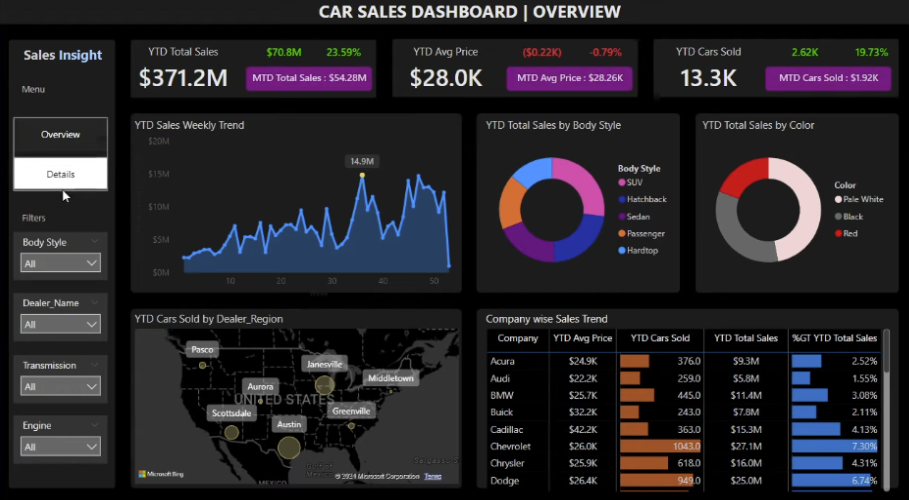

The dashboard page shown, as its layout file describes it:
{"tool":"powerbi","page":{"name":"OVERVIEW","canvas":[1280,720],"ordinal":0},"visuals":[{"type":"cardVisual","title":"YTP TOTAL SALES","fields":{"Data":["car_data.YTD TOTAL SALES"]},"box":[448.8,61.5,212.3,101.3],"z":0},{"type":"cardVisual","title":"SALES DIFFERENCE","fields":{"Data":["car_data.SALES DIFFERENCE"]},"box":[270.2,0,187,76],"z":1000},{"type":"cardVisual","title":"SALES DIFFERENCE","fields":{"Data":["car_data.YOY Sales Growth"]},"box":[167.7,0,129.1,76],"z":2000},{"type":"cardVisual","fields":{"Data":["car_data.MTD KPI"]},"box":[167.4,75.5,236,74.1],"z":3000},{"type":"cardVisual","title":"YTD AVG SALES","fields":{"Data":["car_data.YTD AVG PRICE"]},"box":[1062.1,38.4,218.2,100.2],"z":4000},{"type":"cardVisual","title":"SALES DIFFERENCE","fields":{"Data":["car_data.AVG PRICE DIFF"]},"box":[644.2,76,187,76],"z":5000},{"type":"cardVisual","fields":{"Data":["car_data.MTD AVG PRICE"]},"box":[831.2,74.8,236.5,74.8],"z":6000},{"type":"areaChart","title":"YTD SALES WEEKELY TREND","fields":{"Category":["calender Table.WEEK"],"Y":["Sum(car_data.Price ($))"]},"box":[183.9,149.6,465.2,262.1],"z":7000},{"type":"donutChart","fields":{"Category":["car_data.Body Style"],"Y":["car_data.YTD TOTAL SALES"]},"box":[682,166,267.6,256.6],"z":8000},{"type":"map","fields":{"Series":["car_data.Color"],"Category":["car_data.Dealer_Region"],"Size":["car_data.YTD CARS SOLD"]},"box":[183.9,422.6,443.2,278.6],"z":9000},{"type":"pivotTable","fields":{"Rows":["car_data.Company"],"Values":["car_data.YOY AVG PRICE","car_data.YTD CARS SOLD","car_data.YTD TOTAL SALES","car_data.YOY Sales Growth"]},"box":[682,439.1,575,262.1],"z":10000},{"type":"textbox","box":[457.2,0,444,61.5],"z":11000},{"type":"slicer","fields":{"Values":["car_data.Dealer_Name"]},"box":[0,516.4,148.4,73.6],"z":12000},{"type":"slicer","fields":{"Values":["car_data.Body Style"]},"box":[0,423.5,148.4,73.6],"z":13000},{"type":"slicer","fields":{"Values":["car_data.Transmission"]},"box":[0,337.8,148.4,73.6],"z":14000},{"type":"slicer","fields":{"Values":["car_data.Engine"]},"box":[0,611.7,148.4,73.6],"z":15000},{"type":"donutChart","fields":{"Y":["car_data.YTD TOTAL SALES"],"Category":["car_data.Color"]},"box":[990,162.5,267.5,256.2],"z":16000}]}

Visuals, with their boxes on the page's 1280x720 design canvas (x1, y1, x2, y2). These are canvas units, not pixel positions in the 909x500 screenshot, which may show the page scaled, cropped or inside an application window:
"YTP TOTAL SALES" cardVisual: [449,62,661,163]
"SALES DIFFERENCE" cardVisual: [270,0,457,76]
"SALES DIFFERENCE" cardVisual: [168,0,297,76]
cardVisual - car_data.MTD KPI: [167,76,403,150]
"YTD AVG SALES" cardVisual: [1062,38,1280,139]
"SALES DIFFERENCE" cardVisual: [644,76,831,152]
cardVisual - car_data.MTD AVG PRICE: [831,75,1068,150]
"YTD SALES WEEKELY TREND" areaChart: [184,150,649,412]
donutChart - car_data.Body Style x car_data.YTD TOTAL SALES: [682,166,950,423]
map - car_data.Color x car_data.Dealer_Region: [184,423,627,701]
pivotTable - car_data.Company x car_data.YOY AVG PRICE: [682,439,1257,701]
textbox: [457,0,901,62]
slicer - car_data.Dealer_Name: [0,516,148,590]
slicer - car_data.Body Style: [0,424,148,497]
slicer - car_data.Transmission: [0,338,148,411]
slicer - car_data.Engine: [0,612,148,685]
donutChart - car_data.YTD TOTAL SALES x car_data.Color: [990,162,1258,419]
